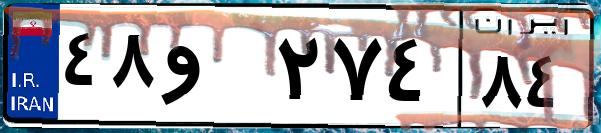2: (270, 28, 330, 110)
4: (385, 28, 445, 110), (57, 26, 110, 100), (525, 38, 570, 115)
7: (330, 28, 385, 110)
8: (475, 38, 525, 113), (110, 28, 158, 98)
و: (158, 20, 270, 120)
